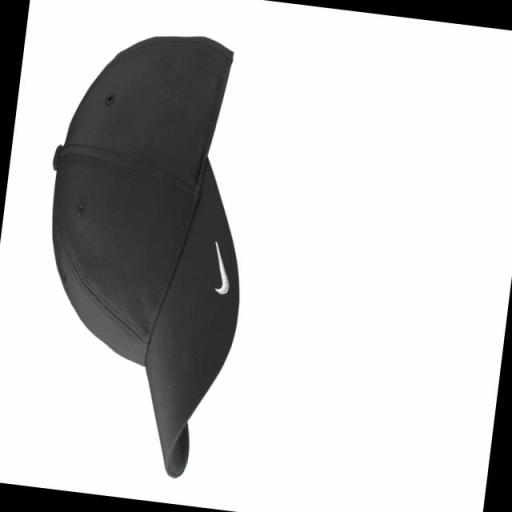Nike: (206, 237, 237, 299)
